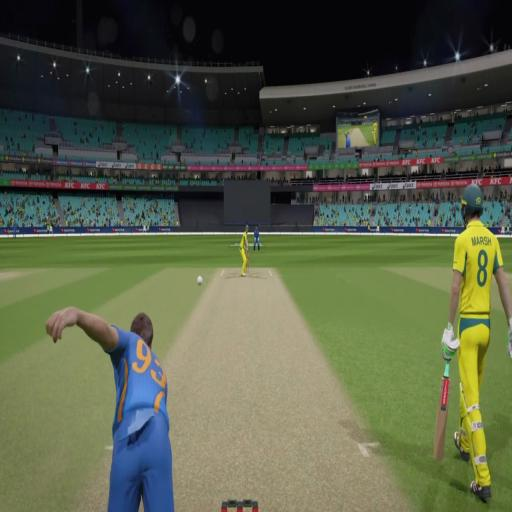ball: (194, 270, 209, 292)
